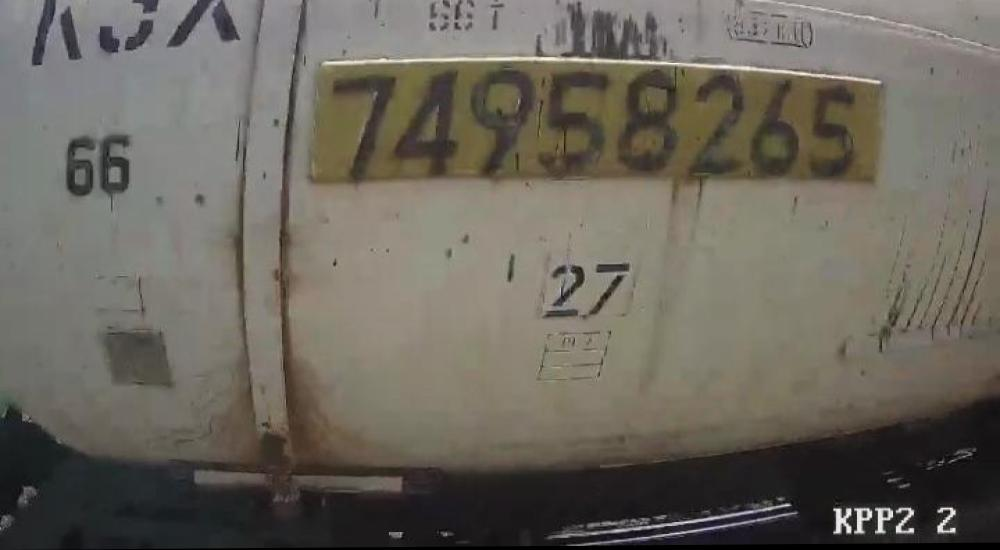Wagon-number: (320, 62, 862, 190)
